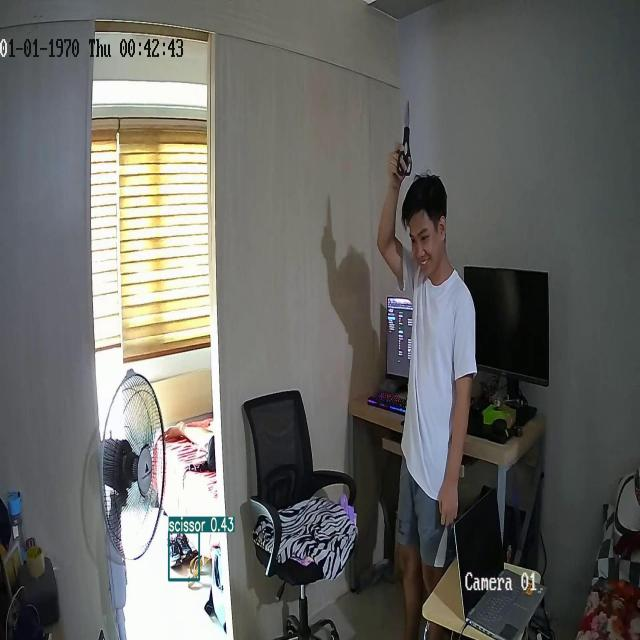scissor: (397, 102, 412, 176)
